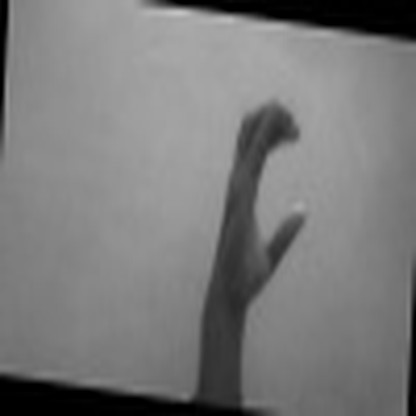c: (210, 97, 312, 295)
